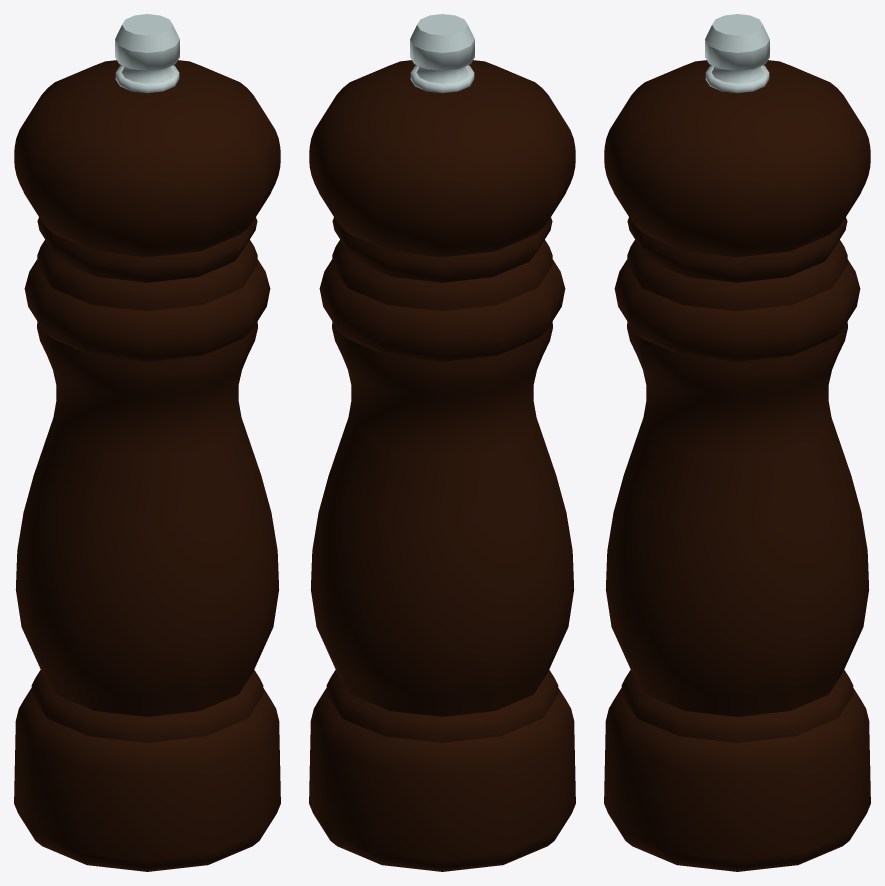
File: pepper1.fbx
3 views of the same model, side by side, from view 1: azimuth 30°, elevation 25°; view 2: azimuth 150°, elevation 25°; view 3: azimuth 270°, elevation 25° (orthographic).
Visible parts, largest first — view 1: pepper1; view 2: pepper1; view 3: pepper1.
Boxes of the visible parts, x1,y1,x2,y2 form: pepper1: (14, 14, 280, 871); pepper1: (309, 14, 575, 871); pepper1: (604, 14, 870, 871).
Size of the model in its own units: 7.47 by 24.56 by 7.47.
